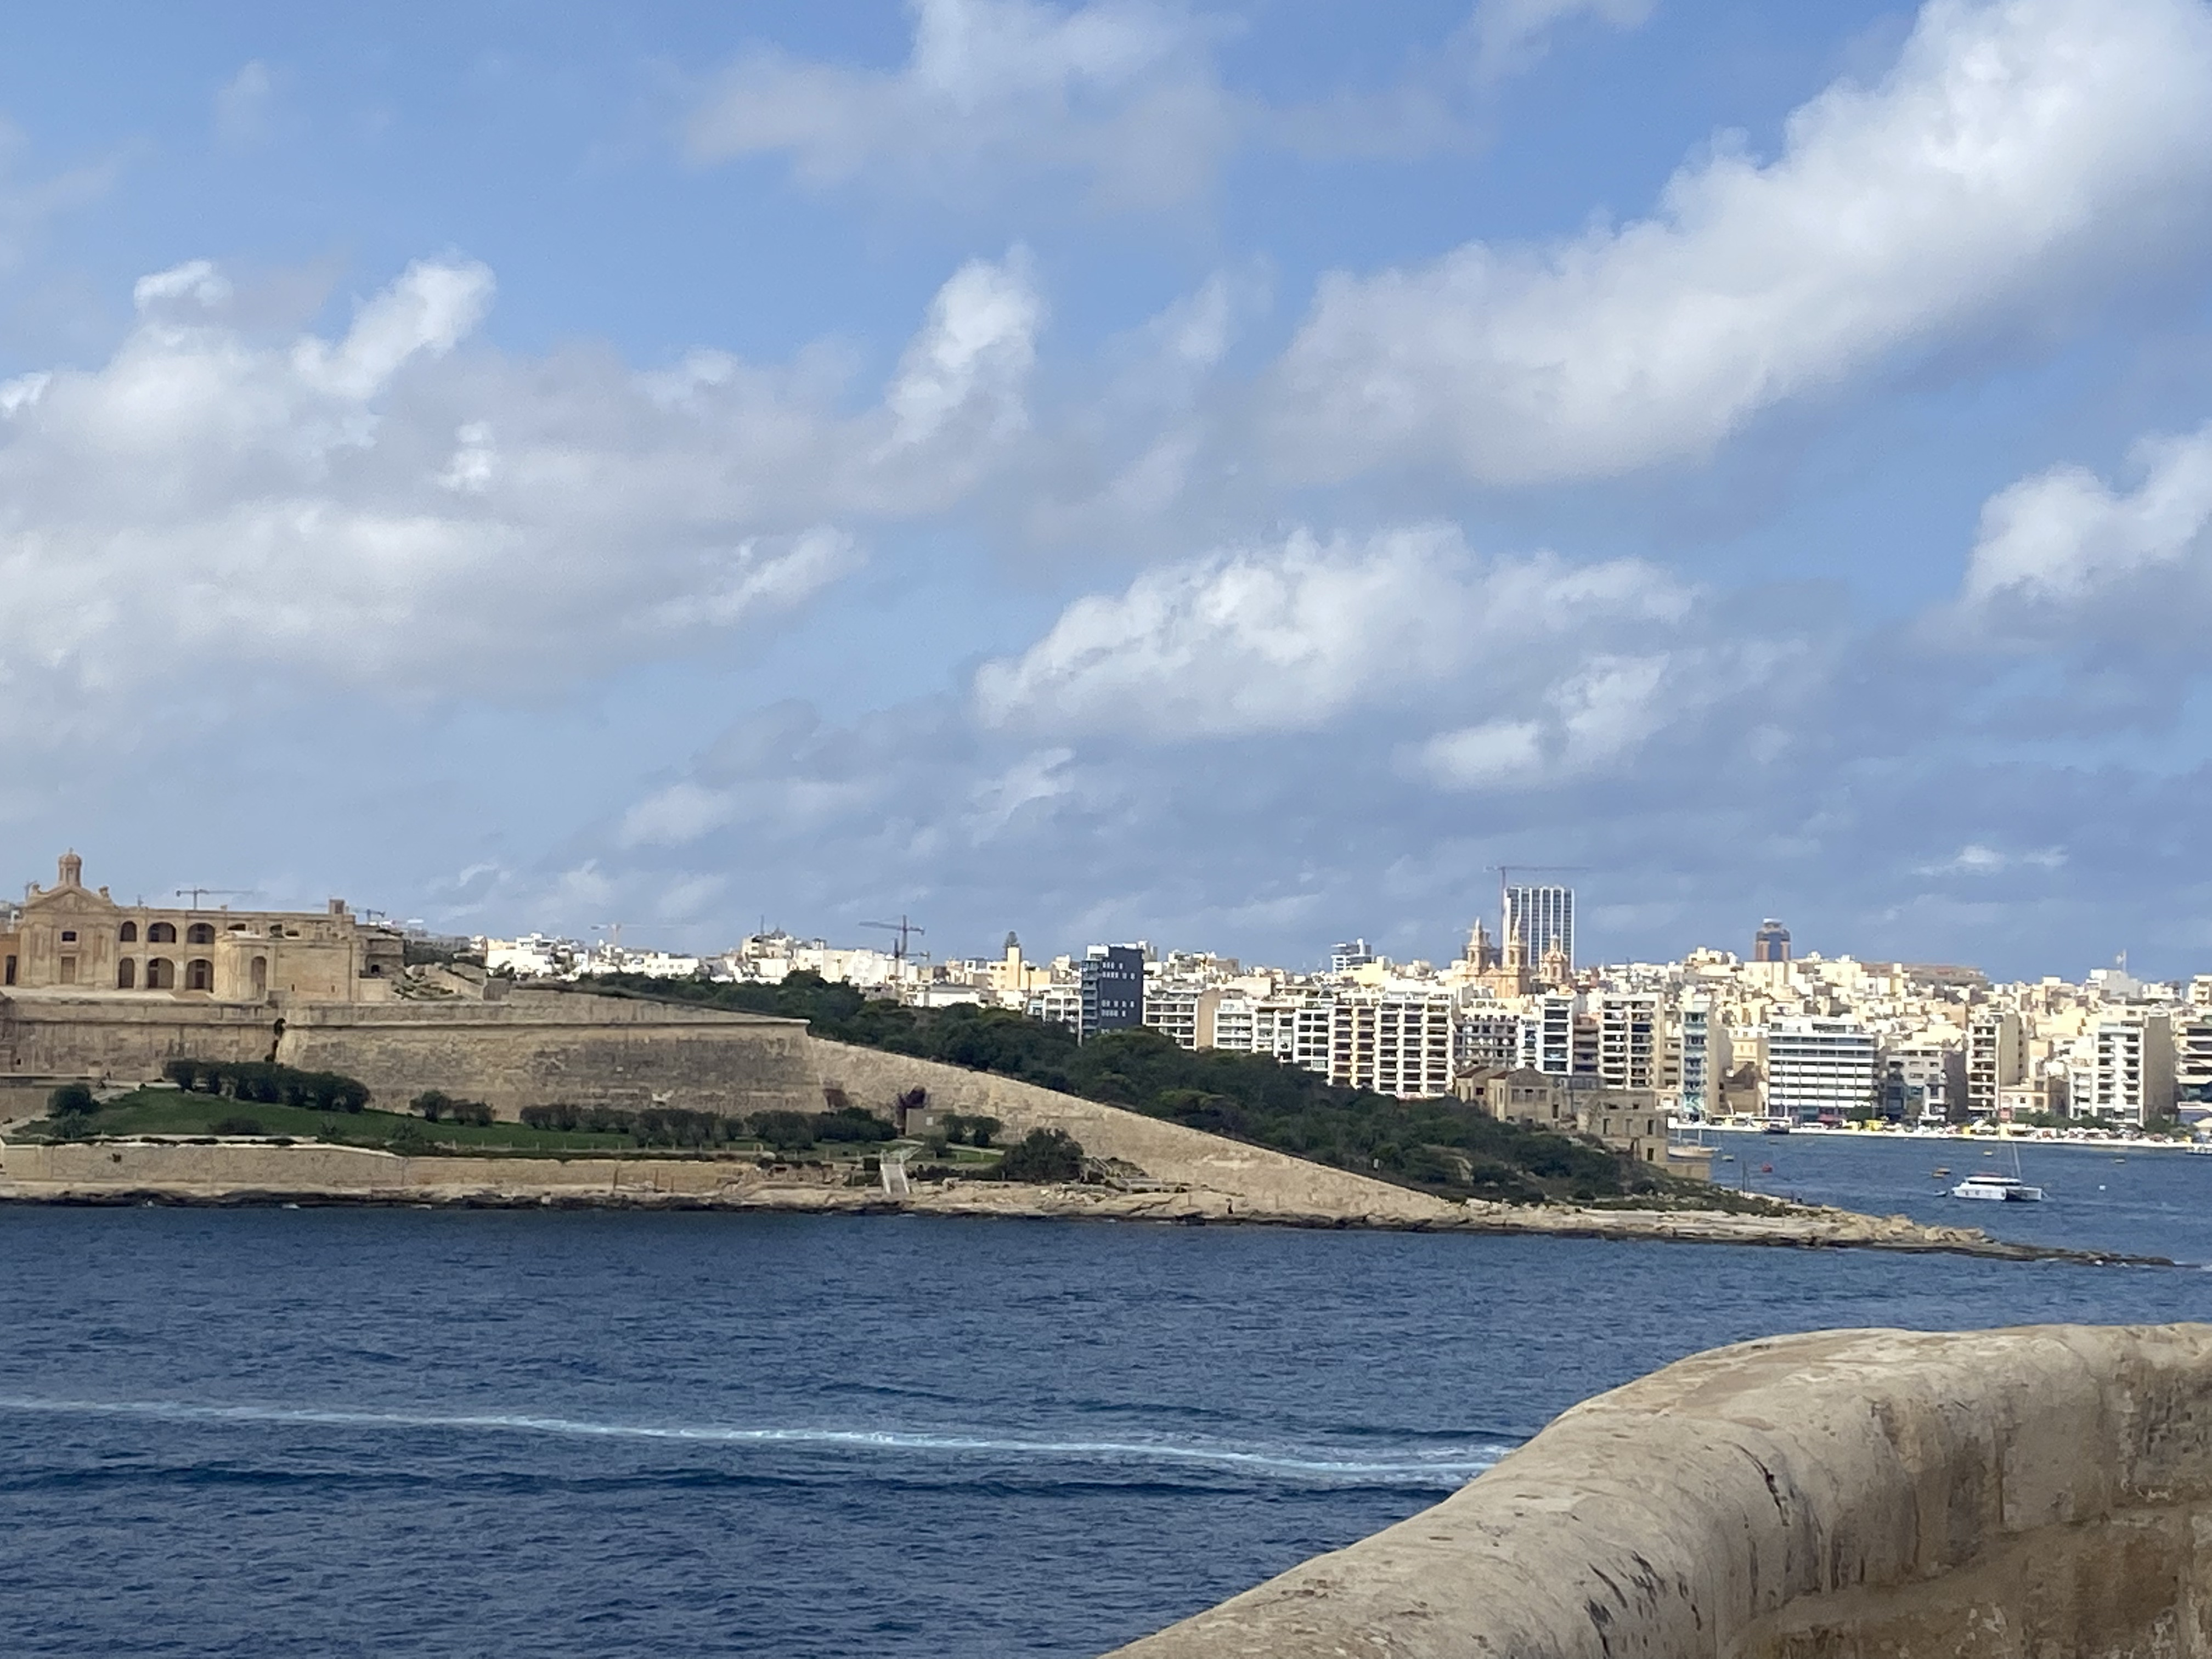crane: (843, 901, 945, 949)
